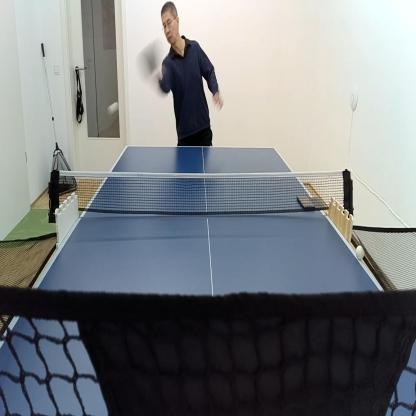Ball: (355, 244, 365, 262), (108, 100, 119, 116)
